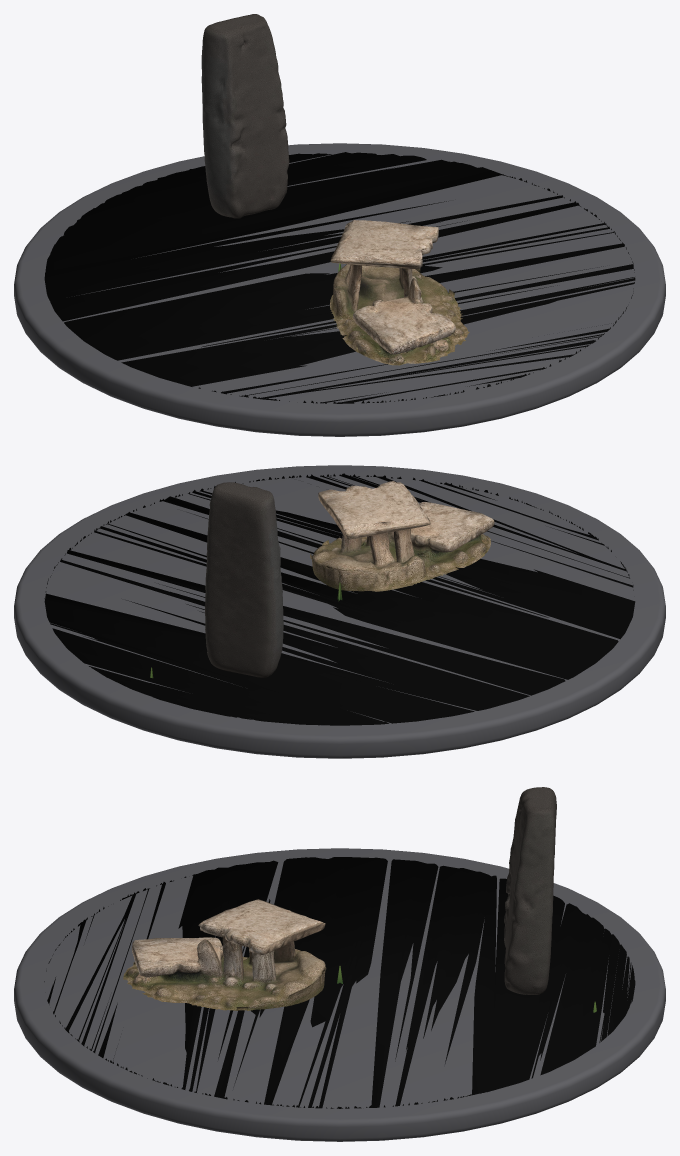
Rendered from jatim.glb.
3 views of the same model, one above another, from view 1: azimuth 30°, elevation 25°; view 2: azimuth 150°, elevation 25°; view 3: azimuth 270°, elevation 25° (orthographic).
Parts seen in each view (by area): view 1: GEO-alas, GEO-tanah, GEO-menhir, GEO-dolmen; view 2: GEO-alas, GEO-tanah, GEO-dolmen, GEO-menhir; view 3: GEO-alas, GEO-tanah, GEO-dolmen, GEO-menhir.
Boxes of the visible parts, left/top/right/bottom form: GEO-alas: left=14, top=143, right=665, bottom=436; GEO-tanah: left=44, top=152, right=635, bottom=403; GEO-menhir: left=201, top=14, right=289, bottom=218; GEO-dolmen: left=330, top=220, right=469, bottom=365; GEO-alas: left=14, top=465, right=665, bottom=758; GEO-tanah: left=44, top=473, right=635, bottom=725; GEO-dolmen: left=310, top=481, right=494, bottom=591; GEO-menhir: left=205, top=482, right=283, bottom=677; GEO-alas: left=14, top=848, right=665, bottom=1141; GEO-tanah: left=44, top=857, right=635, bottom=1108; GEO-dolmen: left=123, top=899, right=326, bottom=1010; GEO-menhir: left=504, top=787, right=556, bottom=994.
Size of the model in its own units: 3.2 by 1.12 by 3.2.
Materials: 5 (3 with a texture image).
